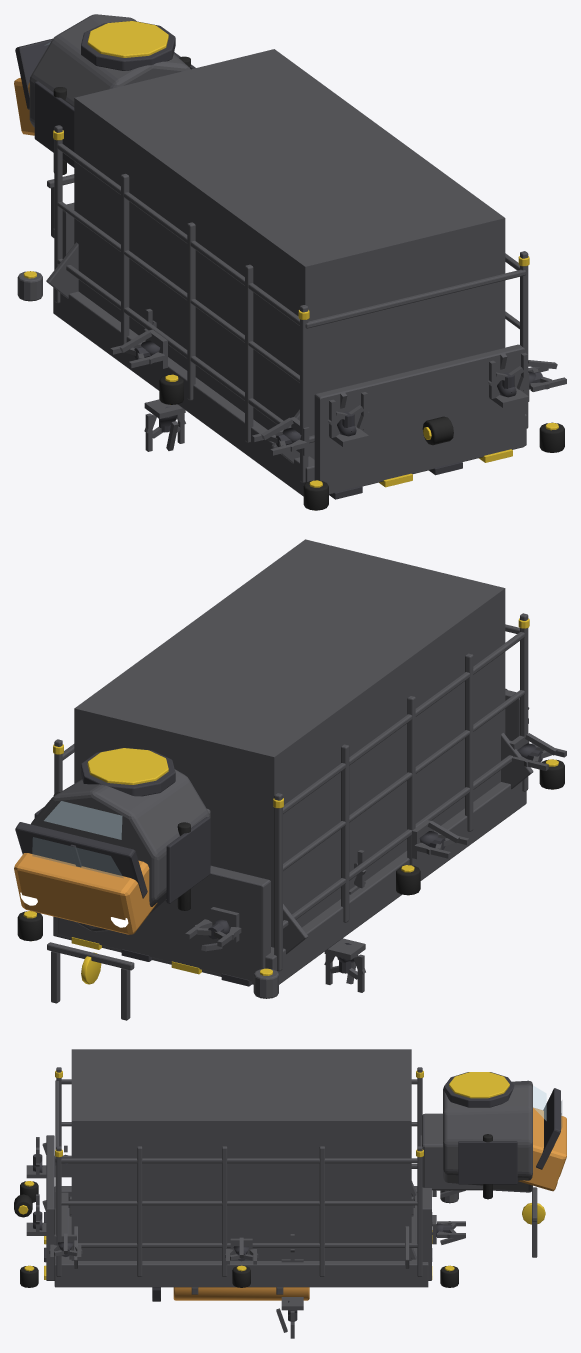
File: SC_Courier_LODs.glb
3 views of the same model, one above another, from view 1: azimuth 30°, elevation 25°; view 2: azimuth 150°, elevation 25°; view 3: azimuth 270°, elevation 25° (orthographic). The views are drawn at different scales.
Visible parts, largest first — view 1: SC_Courier_Frame, SC_Courier_RCS, SC_Courier_Rails, SC_Courier_Hull, SC_Courier_Details; view 2: SC_Courier_Frame, SC_Courier_Hull, SC_Courier_Rails, SC_Courier_RCS, SC_Courier_Details; view 3: SC_Courier_Frame, SC_Courier_Hull, SC_Courier_Rails, SC_Courier_RCS, SC_Courier_Details.
Boxes of the visible parts, bbox=[...] form: SC_Courier_Frame: bbox=[15, 38, 529, 496]; SC_Courier_RCS: bbox=[53, 229, 566, 494]; SC_Courier_Rails: bbox=[47, 125, 528, 482]; SC_Courier_Hull: bbox=[14, 14, 195, 167]; SC_Courier_Details: bbox=[17, 56, 564, 510]; SC_Courier_Frame: bbox=[15, 539, 533, 984]; SC_Courier_Hull: bbox=[14, 748, 210, 934]; SC_Courier_Rails: bbox=[47, 613, 528, 1020]; SC_Courier_RCS: bbox=[185, 688, 566, 992]; SC_Courier_Details: bbox=[17, 618, 564, 998]; SC_Courier_Frame: bbox=[54, 1049, 561, 1301]; SC_Courier_Hull: bbox=[443, 1072, 566, 1192]; SC_Courier_Rails: bbox=[55, 1067, 545, 1276]; SC_Courier_RCS: bbox=[26, 1135, 465, 1338]; SC_Courier_Details: bbox=[14, 1070, 559, 1287].
Size of what is drawn, in the model's own units: 3.38 by 2.8 by 6.51.
